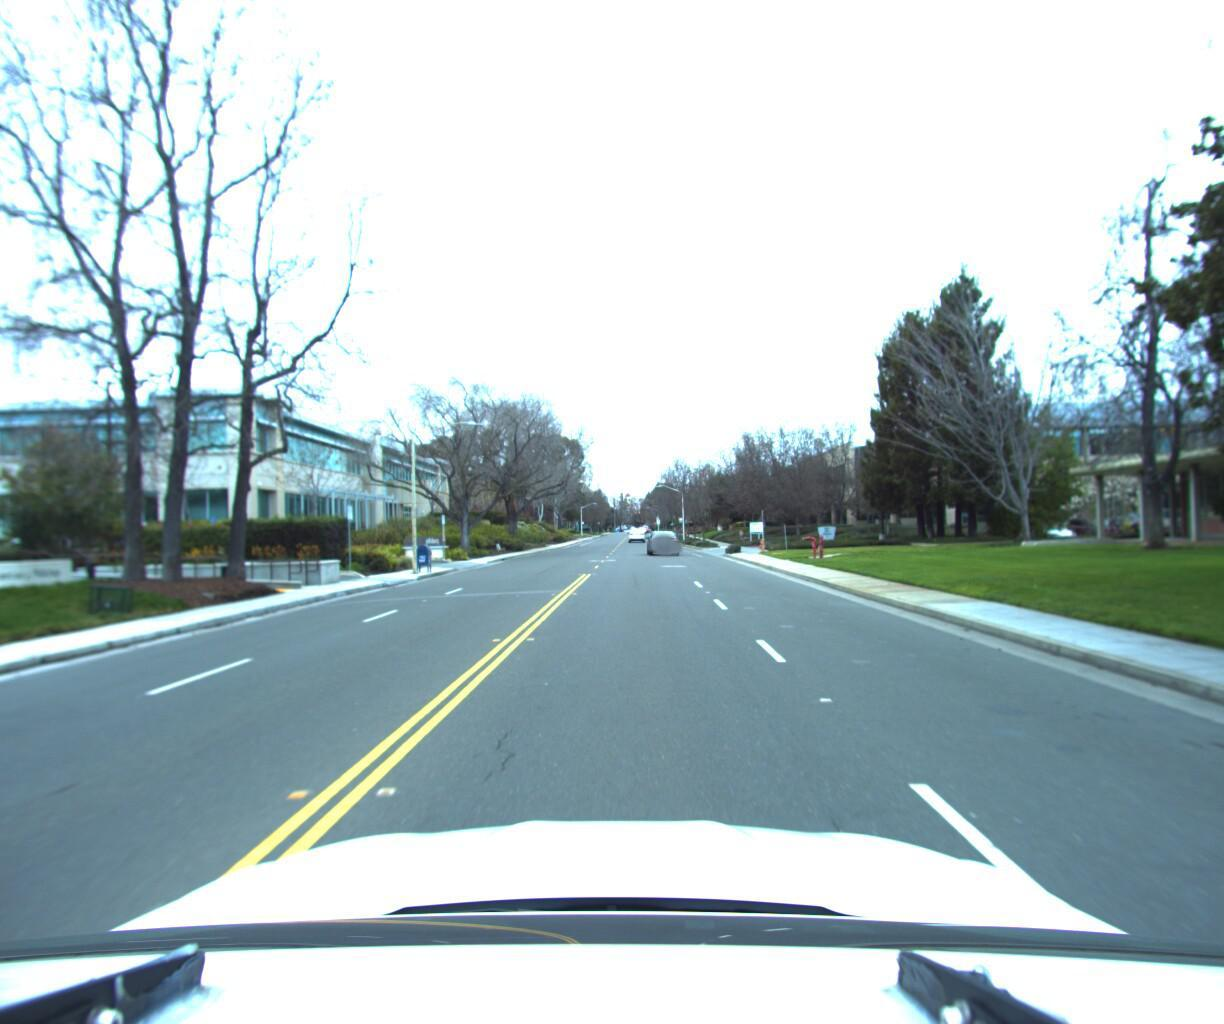car: (645, 527, 680, 551), (627, 524, 646, 538)
